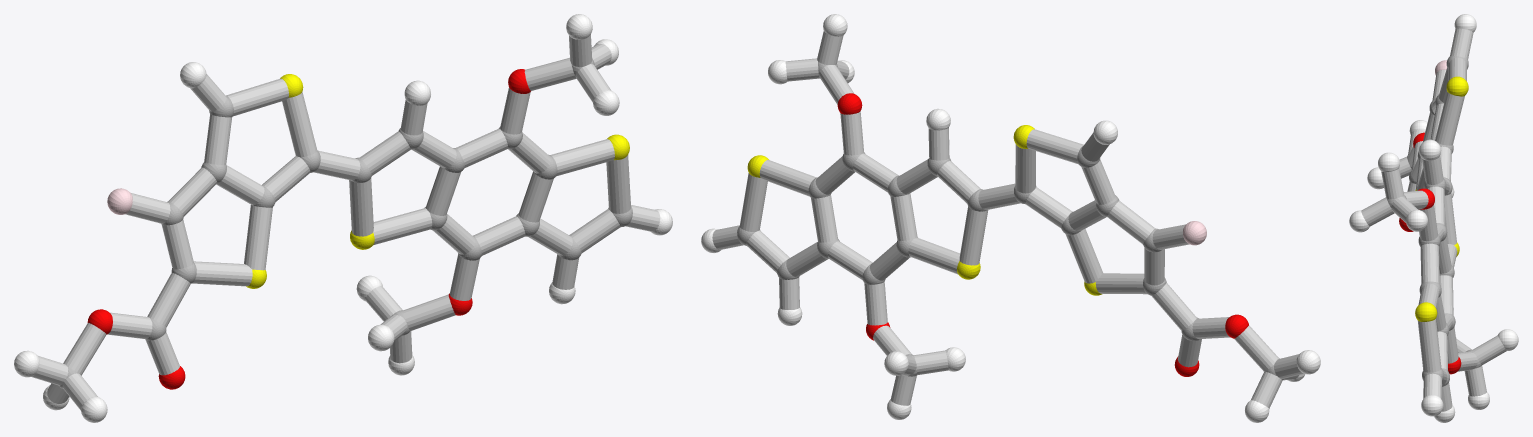
Rendered from Dimethoxy_Benzodithiophene_Phi_5_Theta_20_Methylcarbonyl_3_Fluoro_Thienothiophene.glb.
The picture shows the model from 3 angles, left to right: view 1: azimuth 30°, elevation 25°; view 2: azimuth 150°, elevation 25°; view 3: azimuth 270°, elevation 25°; orthographic projection. The views are drawn at different scales.
Parts seen in each view (by area): view 1: grp15205, grp8689, grp1, grp13395, grp7241; view 2: grp15205, grp8689, grp1, grp13395, grp7241; view 3: grp15205, grp8689, grp1, grp7241, grp13395.
Boxes of the visible parts, x1,y1,x2,y2 form: grp15205: (31, 34, 660, 410); grp8689: (14, 14, 672, 422); grp1: (58, 59, 632, 388); grp13395: (87, 69, 530, 389); grp7241: (246, 74, 629, 288); grp15205: (712, 31, 1303, 408); grp8689: (701, 14, 1320, 422); grp1: (737, 61, 1284, 379); grp13395: (837, 93, 1248, 376); grp7241: (747, 125, 1102, 295); grp15205: (1361, 28, 1506, 411); grp8689: (1349, 14, 1518, 422); grp1: (1387, 55, 1481, 386); grp7241: (1415, 76, 1468, 321); grp13395: (1399, 132, 1461, 374).
Size of the model in its own units: 17.17 by 9.16 by 4.58.
